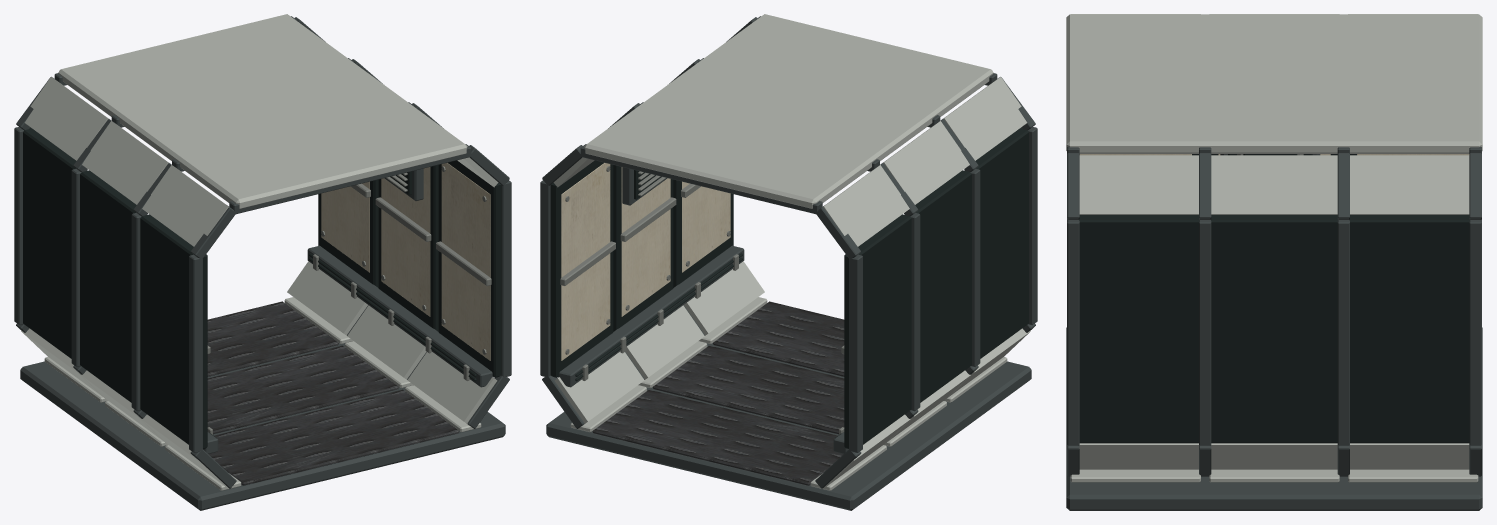
Rendered from corridor_module_v1.glb.
The picture shows the model from 3 angles, left to right: view 1: azimuth 30°, elevation 25°; view 2: azimuth 150°, elevation 25°; view 3: azimuth 270°, elevation 25°; orthographic projection. The views are drawn at different scales.
Visible parts, largest first — view 1: export 02 warm grey ivory enamel, export 06 rubber and recess, export 03 dark structural steel, export 05 worn floor tread, export 01 aged enamel ivory, export 04 worn edges; view 2: export 02 warm grey ivory enamel, export 06 rubber and recess, export 03 dark structural steel, export 05 worn floor tread, export 01 aged enamel ivory, export 04 worn edges; view 3: export 02 warm grey ivory enamel, export 06 rubber and recess, export 03 dark structural steel, export 01 aged enamel ivory.
Boxes of the visible parts, x1,y1,x2,y2 form: export 02 warm grey ivory enamel: (21,14,498,490); export 06 rubber and recess: (23,127,501,448); export 03 dark structural steel: (14,16,511,510); export 05 worn floor tread: (207,301,459,485); export 01 aged enamel ivory: (321,163,490,360); export 04 worn edges: (207,166,491,434); export 02 warm grey ivory enamel: (553,14,1030,490); export 06 rubber and recess: (550,127,1028,448); export 03 dark structural steel: (540,16,1037,510); export 05 worn floor tread: (592,301,844,485); export 01 aged enamel ivory: (561,163,730,360); export 04 worn edges: (560,166,844,434); export 02 warm grey ivory enamel: (1066,14,1482,482); export 06 rubber and recess: (1079,154,1469,443); export 03 dark structural steel: (1066,146,1482,510); export 01 aged enamel ivory: (1079,154,1469,155).
Size of the model in its own units: 3.05 by 2.77 by 3.
9 materials, 3 textured.
